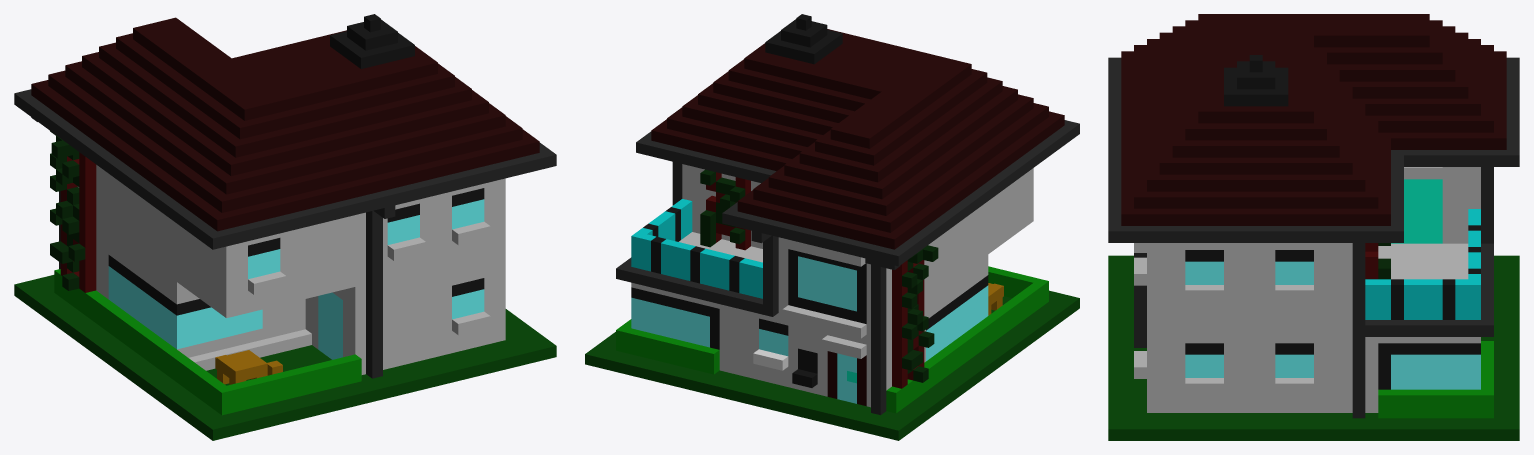
Rendered from HouseWin_Win.obj.
3 renders of one model, left to right at view 1: azimuth 30°, elevation 25°; view 2: azimuth 150°, elevation 25°; view 3: azimuth 270°, elevation 25°, orthographic. The views are drawn at different scales.
Visible parts, largest first — view 1: HouseWin_Win; view 2: HouseWin_Win; view 3: HouseWin_Win.
Boxes of the visible parts, x1,y1,x2,y2 form: HouseWin_Win: [14, 14, 556, 440]; HouseWin_Win: [585, 14, 1079, 440]; HouseWin_Win: [1108, 14, 1519, 440].
Size of the model in its own units: 32 by 28 by 32.
Materials: 1 (1 with a texture image).
